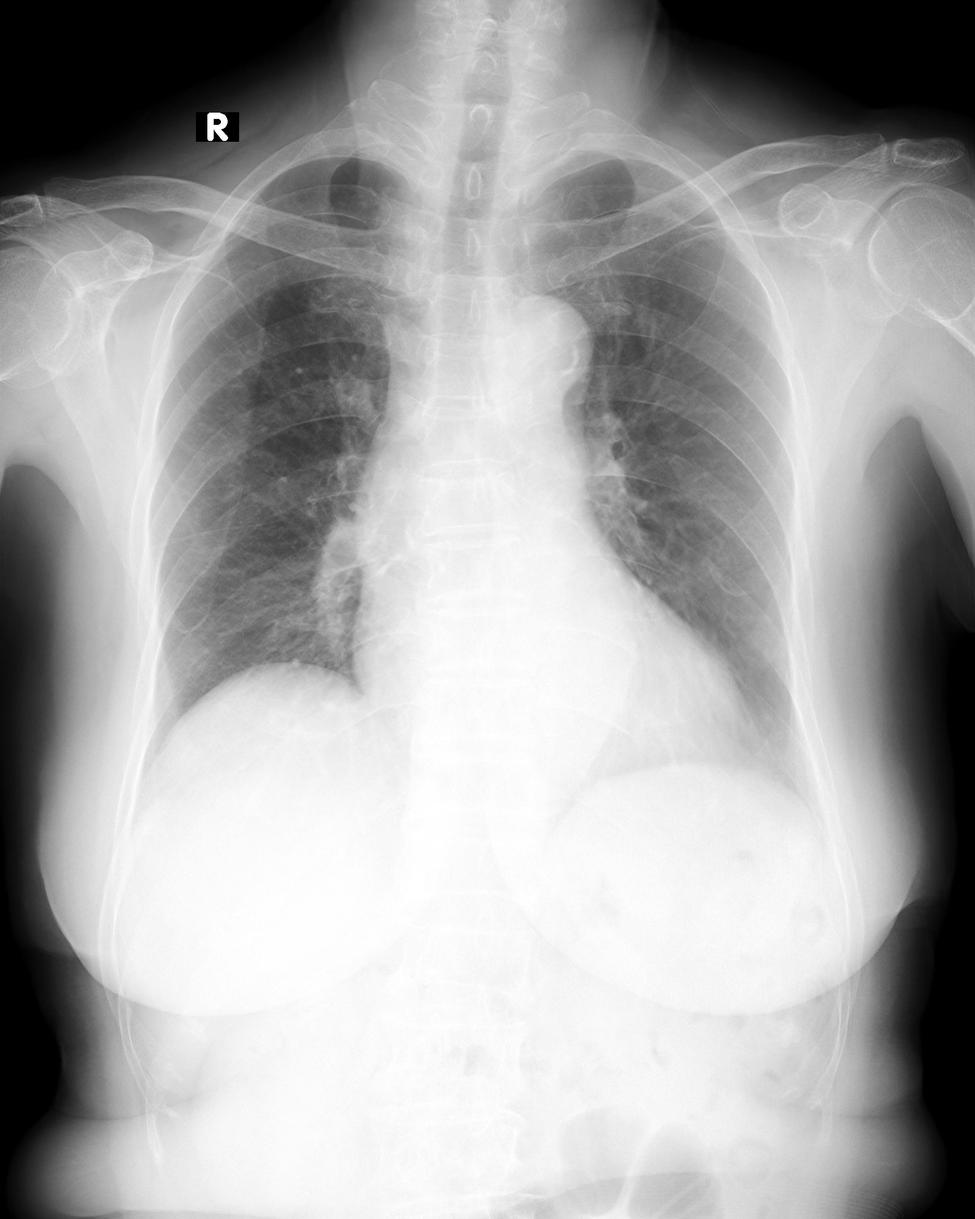Aortic enlargement: (475, 292, 597, 406)
Cardiomegaly: (345, 640, 758, 764)
